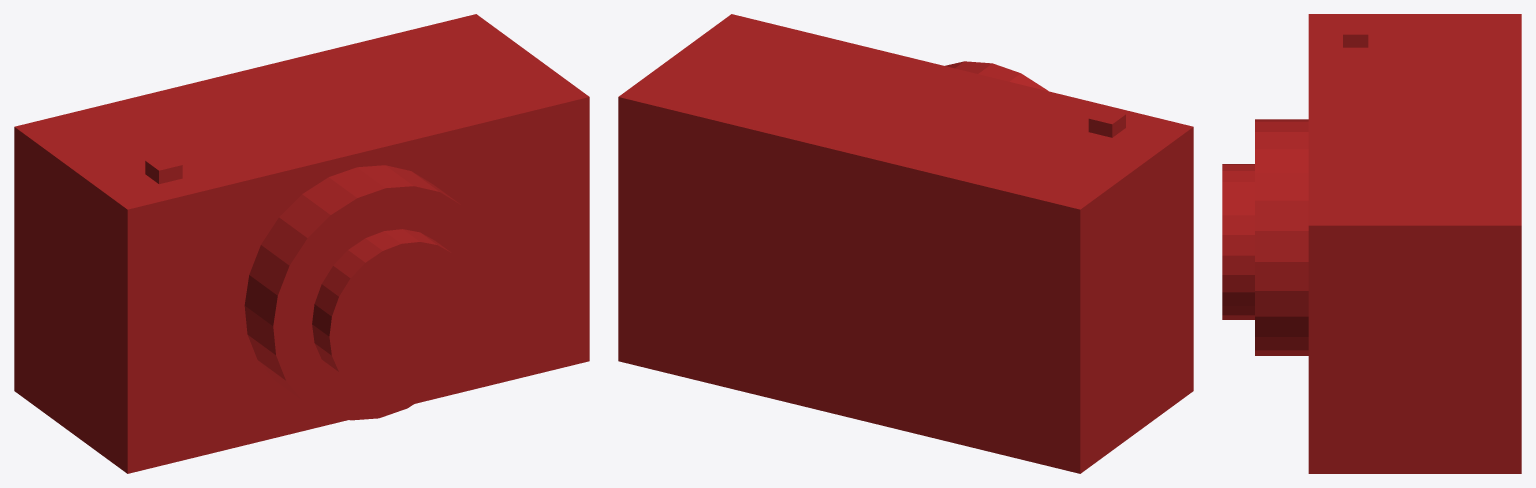
Rendered from model_align.obj.
3 views of the same model, side by side, from view 1: azimuth 30°, elevation 25°; view 2: azimuth 150°, elevation 25°; view 3: azimuth 270°, elevation 25° (orthographic). The views are drawn at different scales.
Size of the model in its own units: 0.1521 by 0.0874 by 0.0909.
